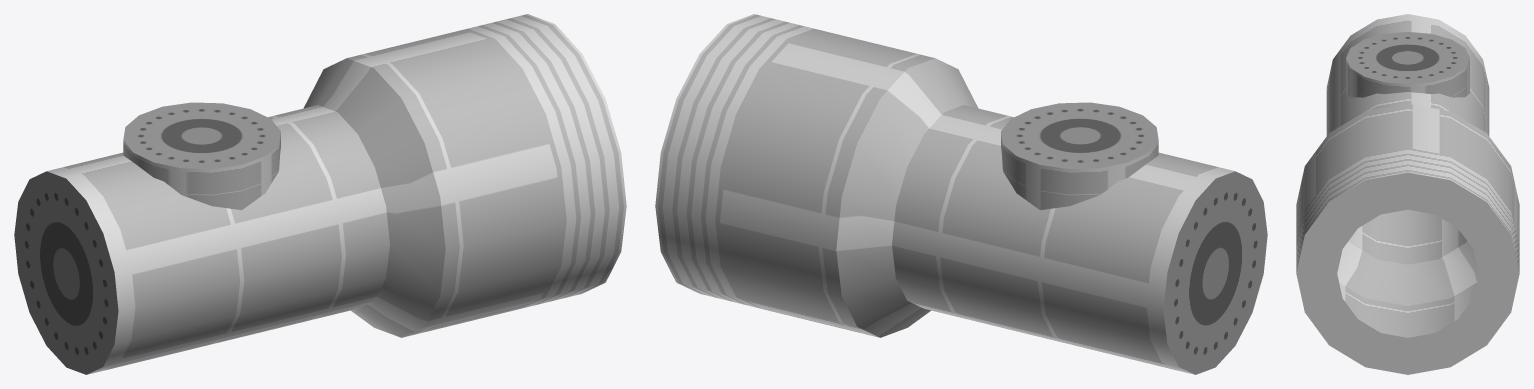
Rendered from iss_quest.fbx.
3 views of the same model, side by side, from view 1: azimuth 30°, elevation 25°; view 2: azimuth 150°, elevation 25°; view 3: azimuth 270°, elevation 25° (orthographic). The views are drawn at different scales.
Visible parts, largest first — view 1: quest; view 2: quest; view 3: quest.
Part boxes in pixels (left/top/right/bottom): quest: left=14, top=14, right=626, bottom=374; quest: left=655, top=14, right=1267, bottom=374; quest: left=1296, top=14, right=1519, bottom=374.
Bounding box in the file's own units: 5.4 × 2.74 × 2.74.
